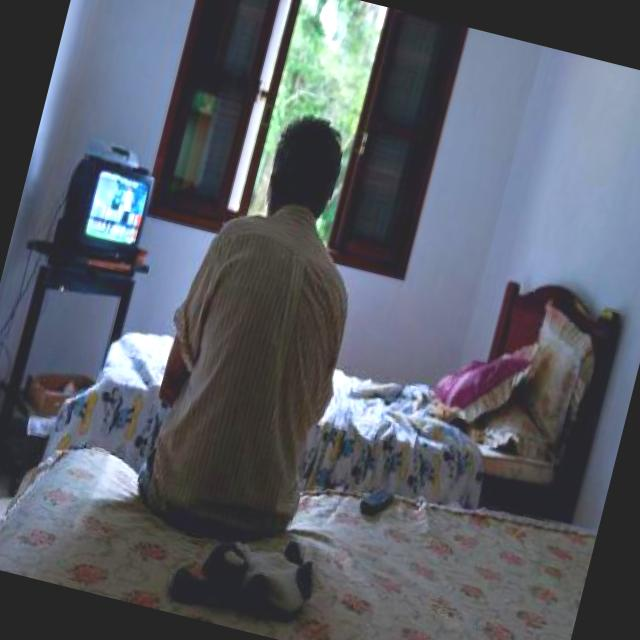Person: (122, 90, 396, 555)
